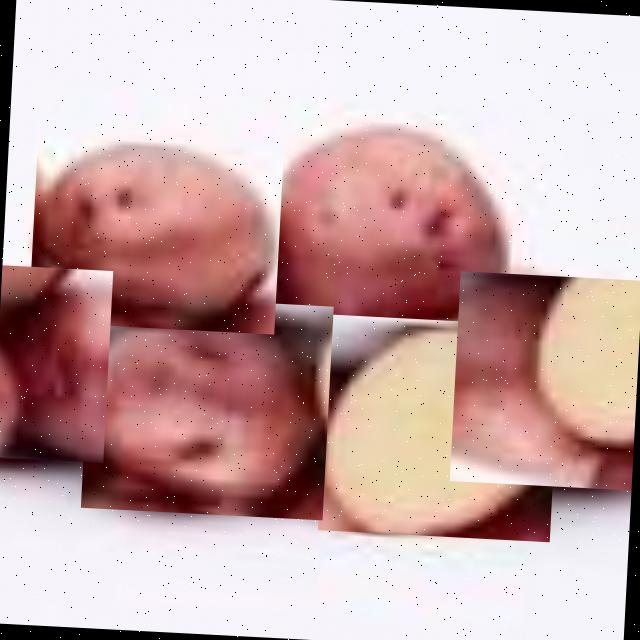Defected potato: (263, 106, 533, 348), (81, 294, 334, 520), (28, 130, 284, 335), (449, 271, 640, 490), (0, 265, 113, 463)
Potato: (318, 314, 561, 542)
